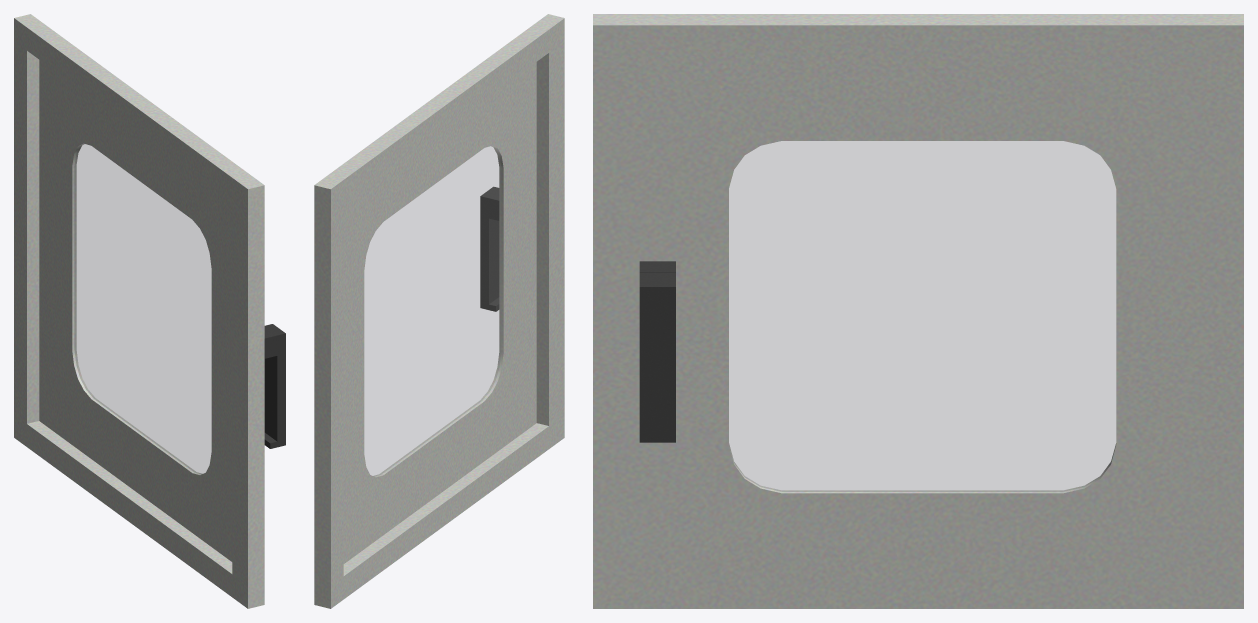
File: SM_恒温干燥箱门.fbx
The picture shows the model from 3 angles, left to right: view 1: azimuth 30°, elevation 25°; view 2: azimuth 150°, elevation 25°; view 3: azimuth 270°, elevation 25°; orthographic projection. The views are drawn at different scales.
Parts seen in each view (by area): view 1: SM_恒温干燥箱门; view 2: SM_恒温干燥箱门; view 3: SM_恒温干燥箱门.
Part boxes in pixels (bbox=[...]): SM_恒温干燥箱门: bbox=[14, 14, 285, 608]; SM_恒温干燥箱门: bbox=[314, 14, 564, 608]; SM_恒温干燥箱门: bbox=[593, 14, 1243, 608].
Size of the model in its own units: 0.0778 by 0.5718 by 0.5778.
